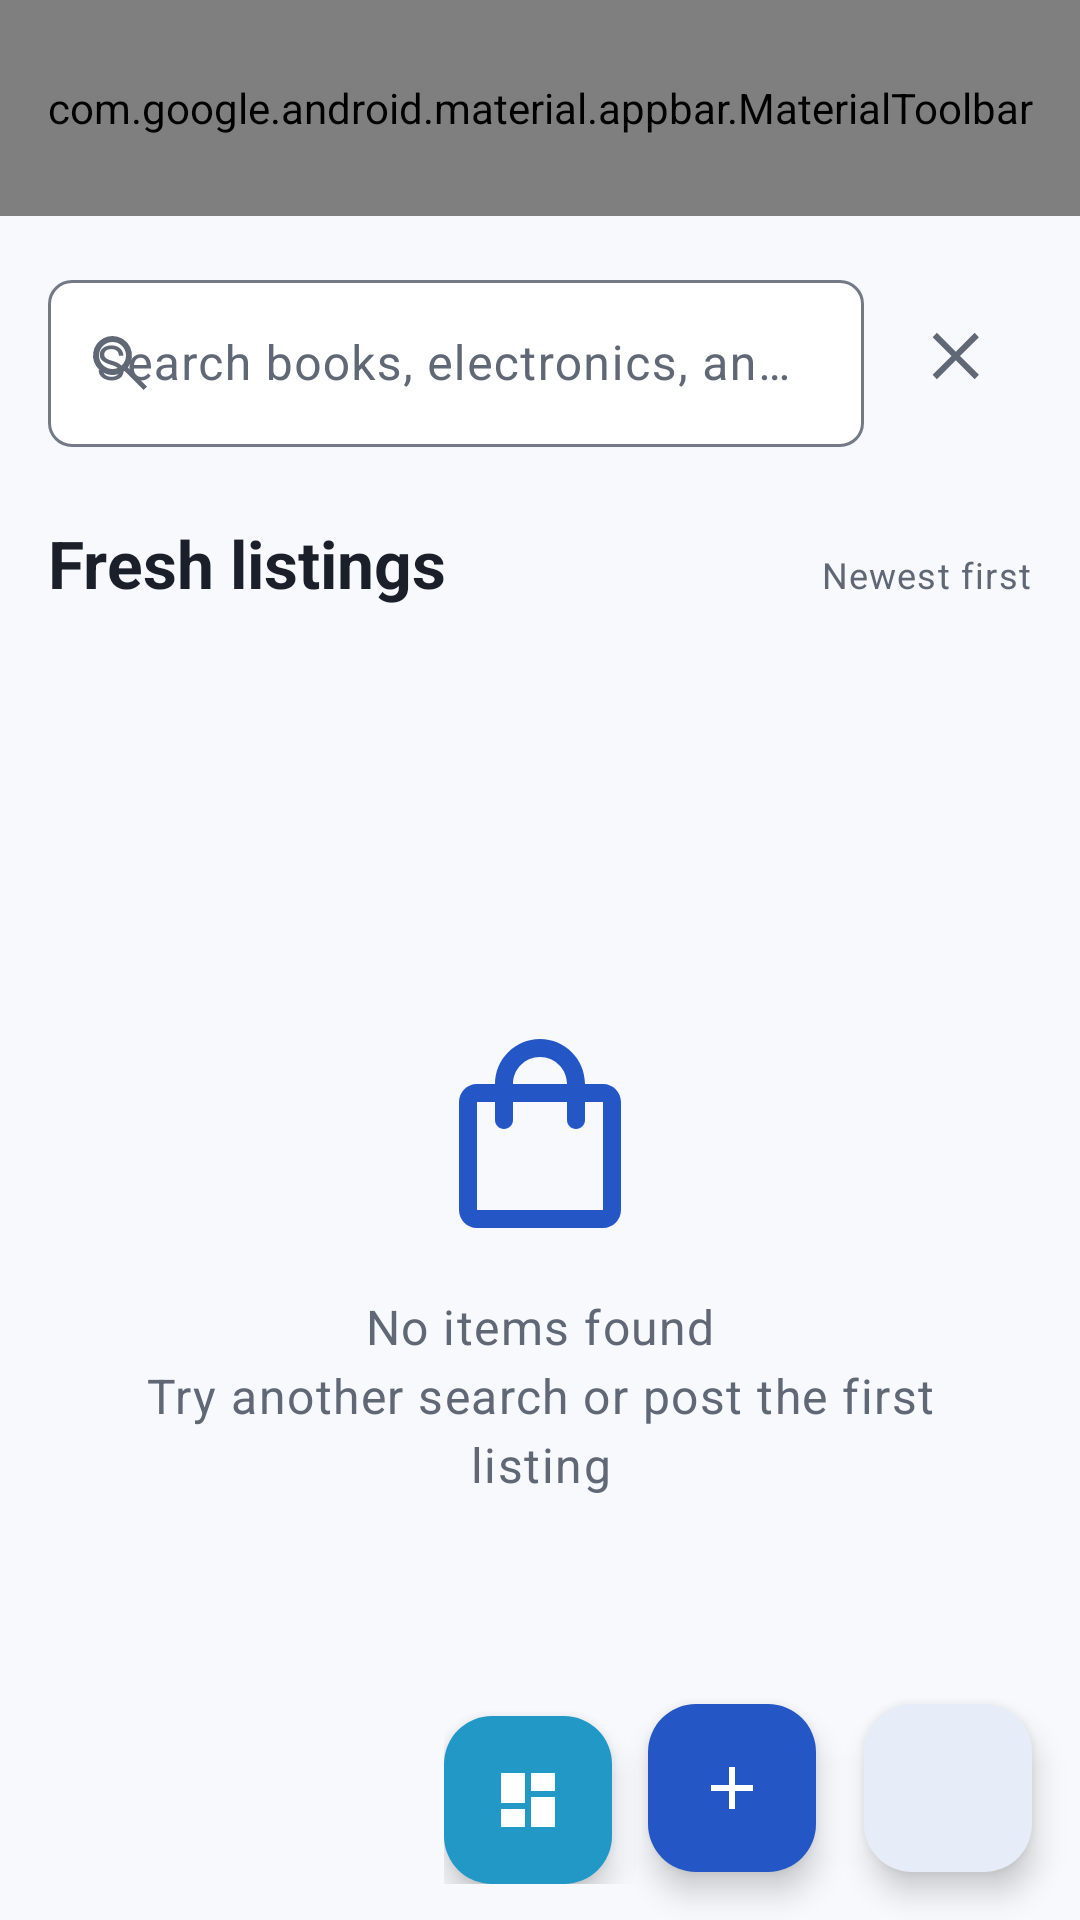

Where to tap for icons on this 1080*1920 app screen, as point (x, y):
Clear search: point (956, 356)
Open management center: point (528, 1800)
Post an item: point (732, 1788)
